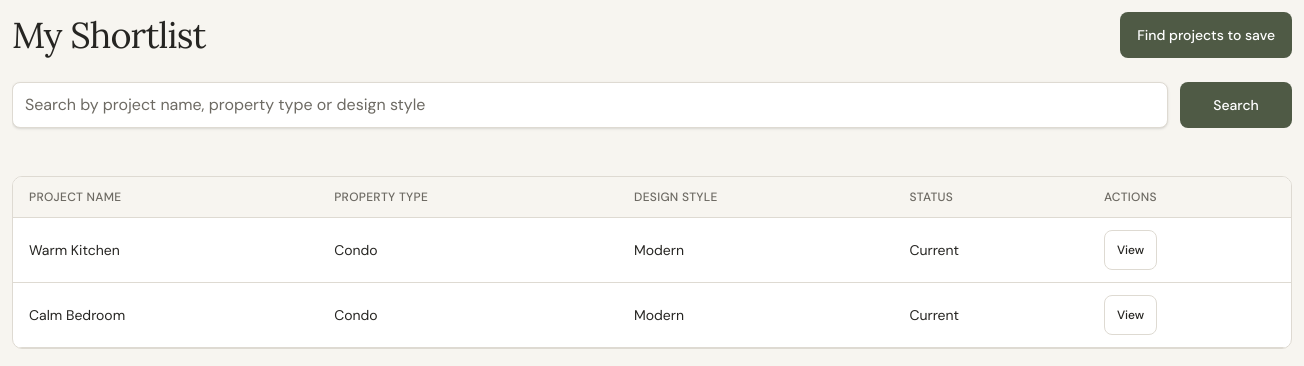
Search: sends the typed keyword and shows the matches
Check: the cell "Calm Bedroom" is shown, box [13, 282, 318, 348]
Type "kitchen" into the field labelled "Search" at coordinates (590, 105), box [12, 82, 1168, 128]
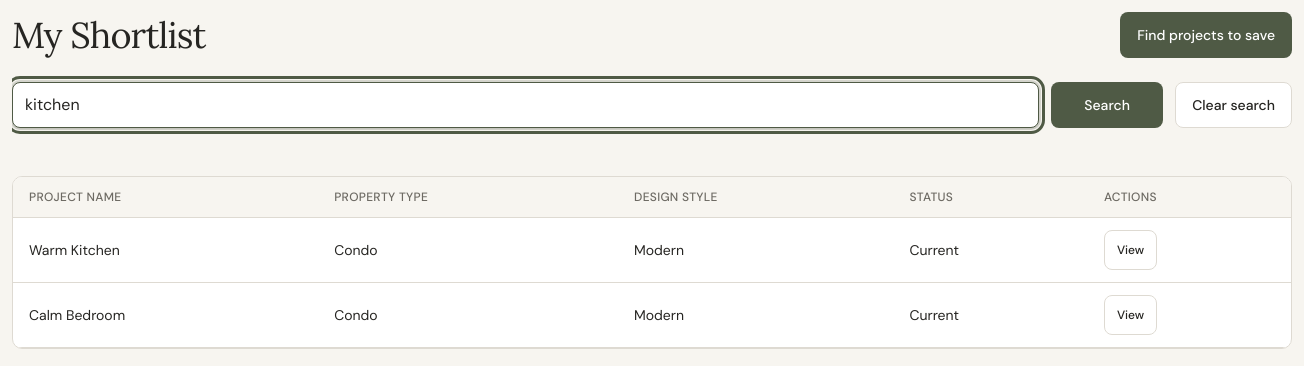
Click the button "Search" at coordinates (1107, 105), box [1051, 82, 1163, 128]
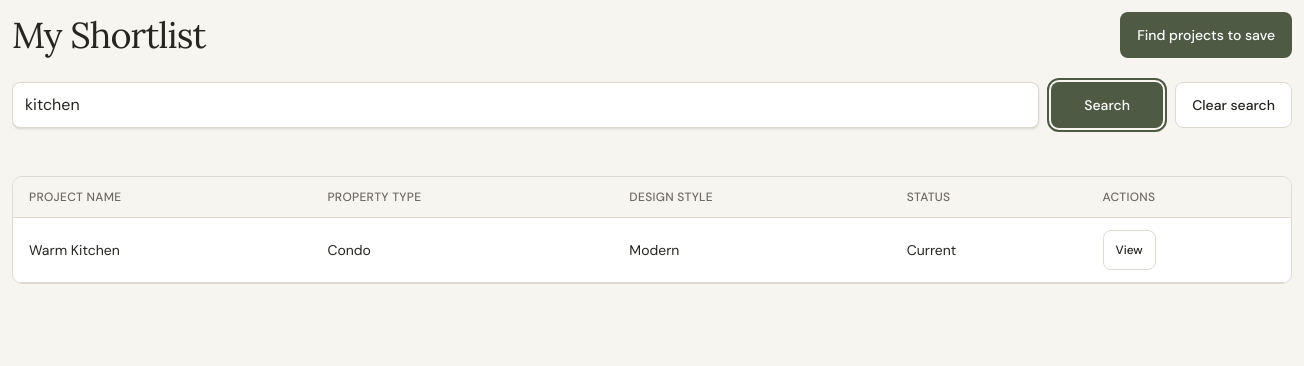
Check: the cell "Calm Bedroom" is gone
